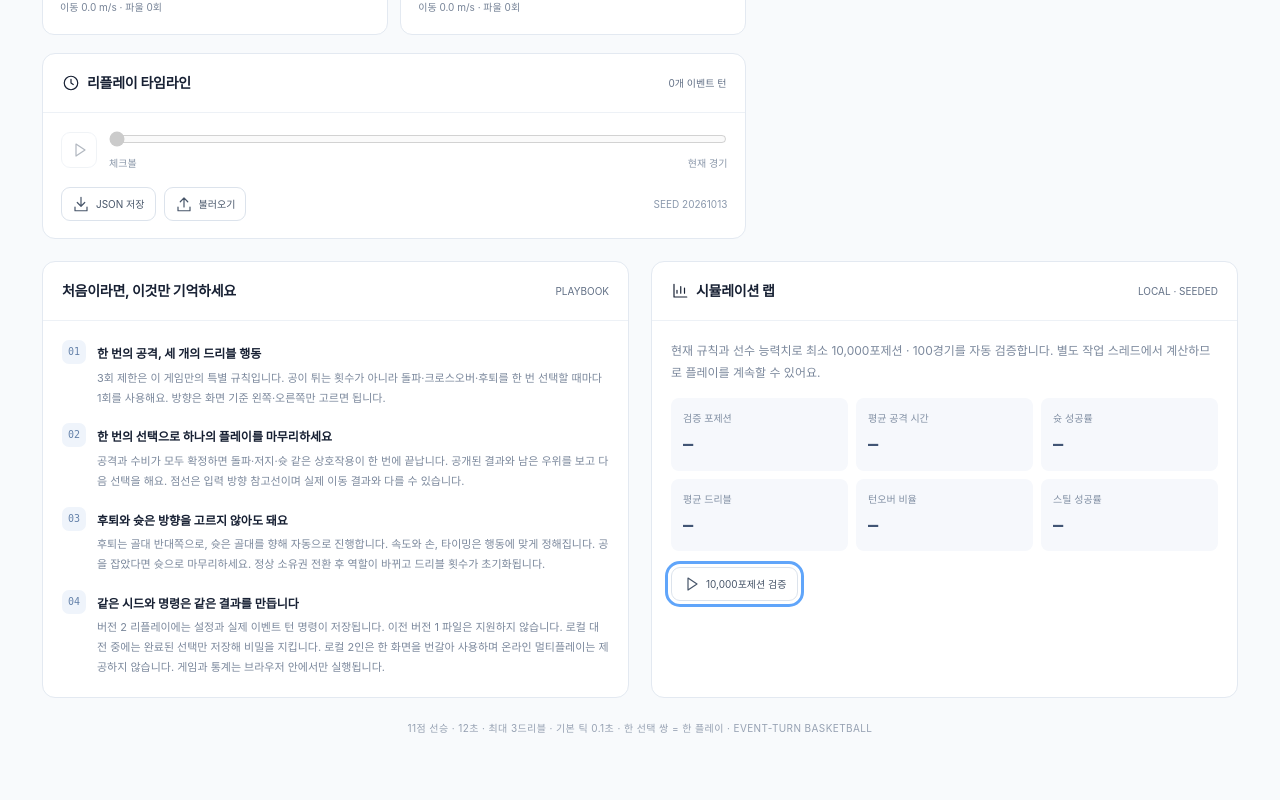
시뮬레이션 Worker 생명주기 › 작업 오류를 노출하고 재시도할 수 있도록 종료한다
(page scrolled)
Click the button "10,000포제션 검증" at (734, 584), box left=671, top=567, right=798, bottom=601
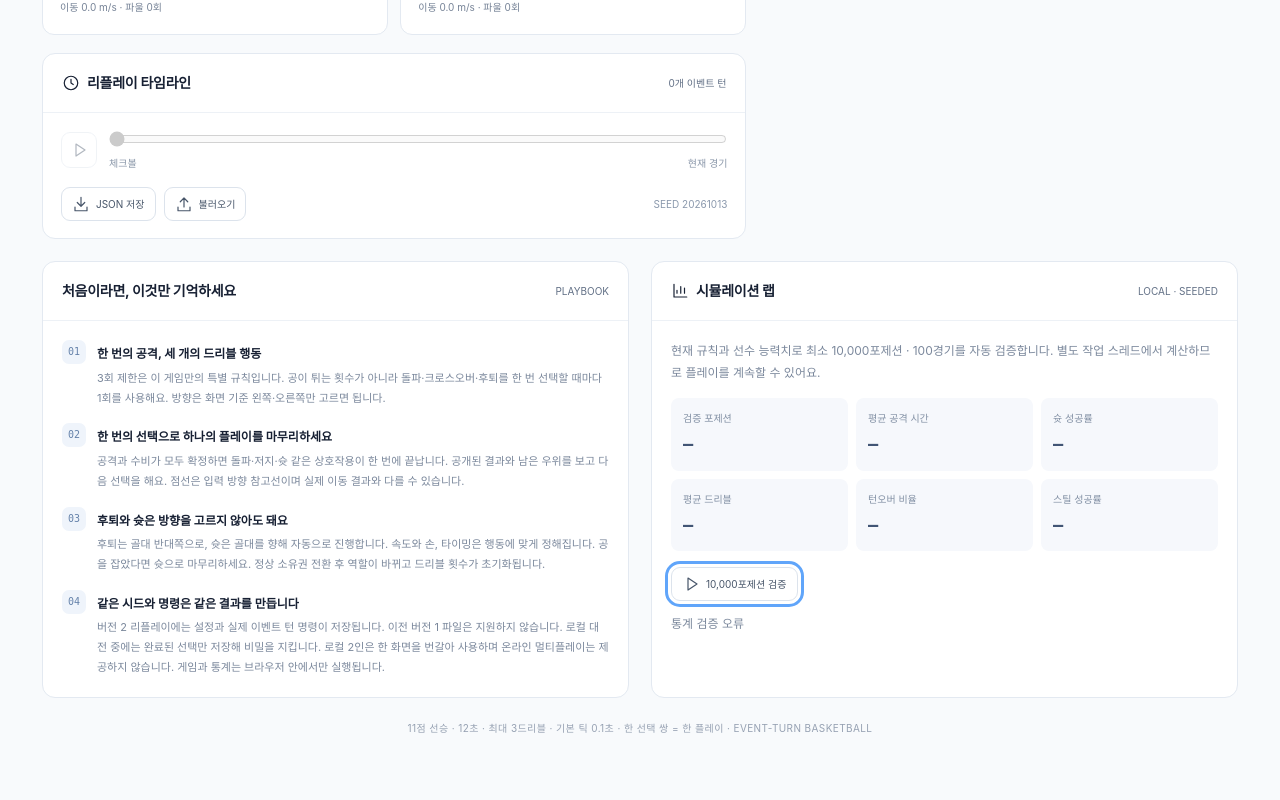
Expected: the message reads "통계 검증 오류", left=671, top=616, right=744, bottom=631
Click the button "10,000포제션 검증" at (734, 584), box left=671, top=567, right=798, bottom=601
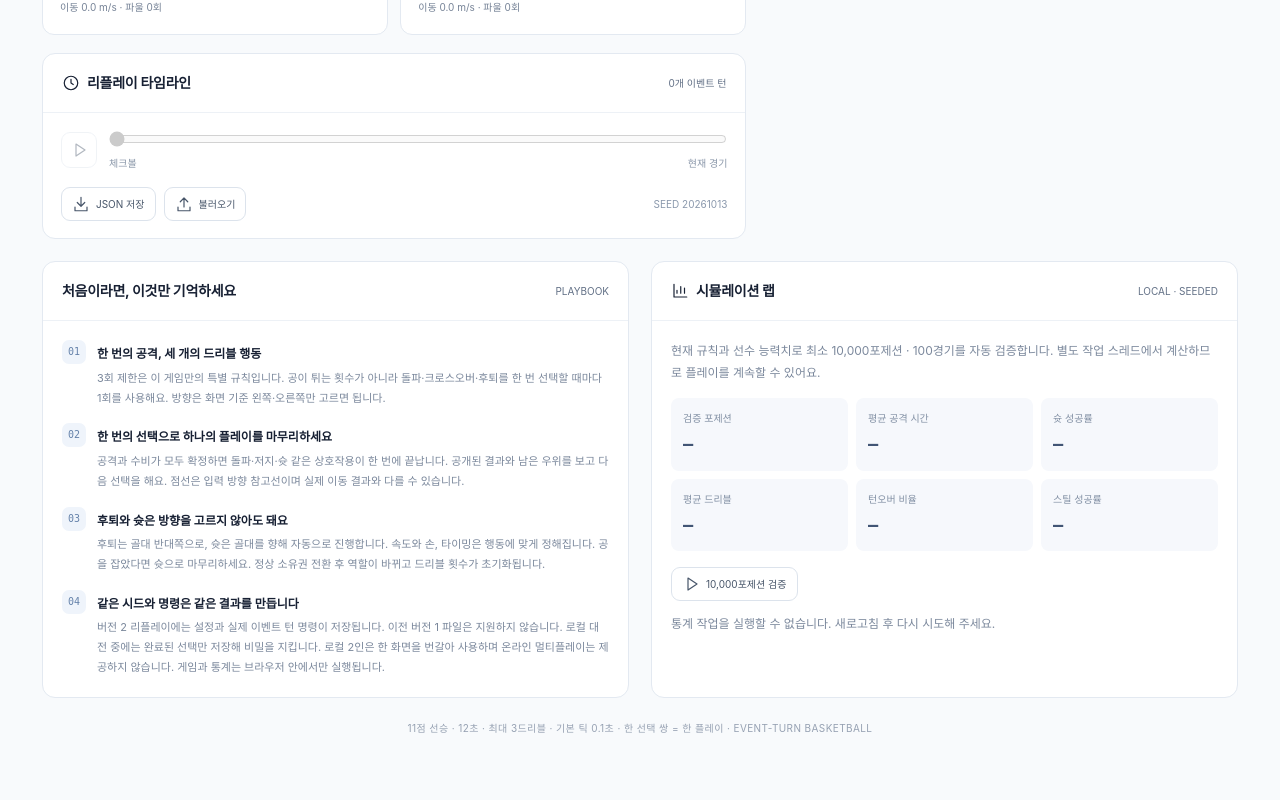
Expected: the message shows "통계 작업을 실행할 수 없습니다", left=671, top=616, right=995, bottom=631
